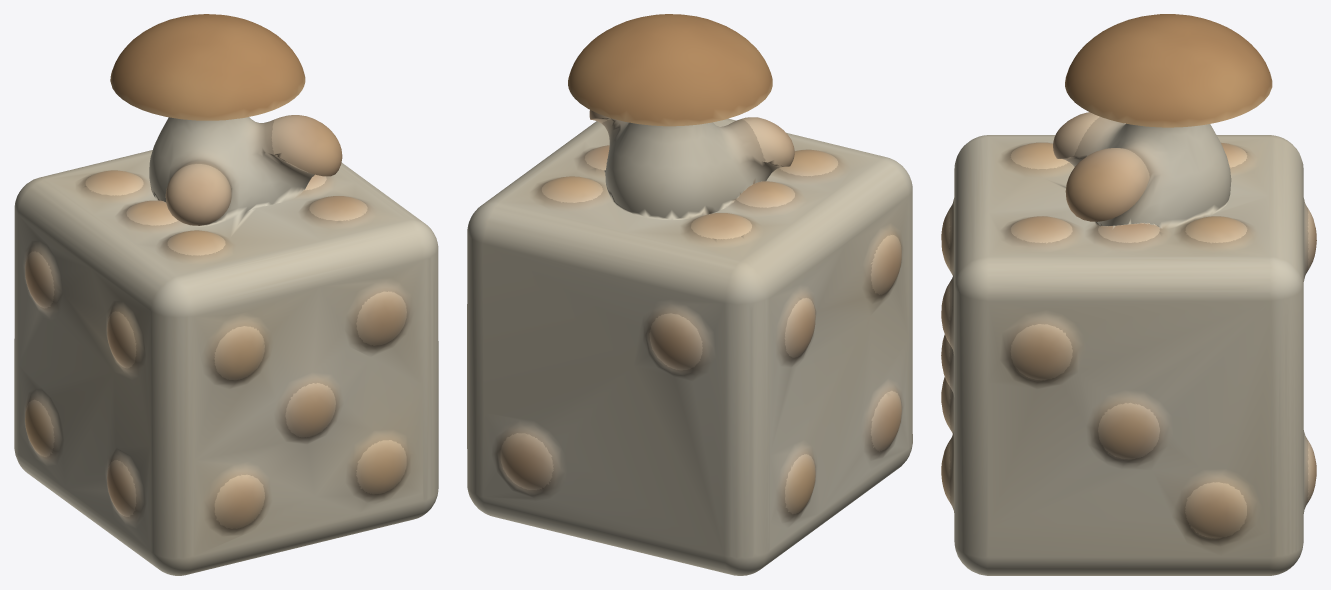
Rendered from die-porcini.glb.
3 views of the same model, side by side, from view 1: azimuth 30°, elevation 25°; view 2: azimuth 150°, elevation 25°; view 3: azimuth 270°, elevation 25° (orthographic). The views are drawn at different scales.
Parts seen in each view (by area): view 1: body; view 2: body; view 3: body.
Boxes of the visible parts, bbox=[...] form: body: bbox=[14, 14, 438, 575]; body: bbox=[467, 14, 912, 575]; body: bbox=[941, 14, 1316, 575].
Size of the model in its own units: 2.37 by 3.48 by 2.37.
